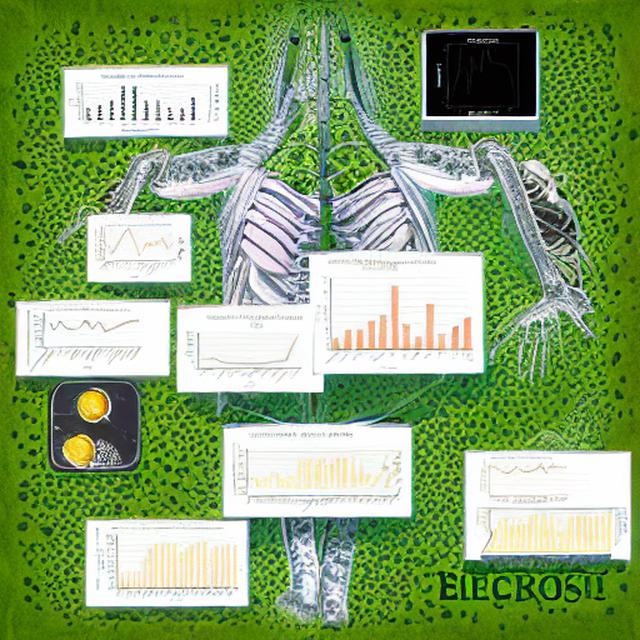Graph: (314, 259, 449, 372), (94, 523, 240, 604), (182, 311, 305, 390), (427, 34, 536, 116), (66, 72, 201, 133), (24, 306, 145, 374), (94, 222, 176, 280), (479, 455, 570, 504)
